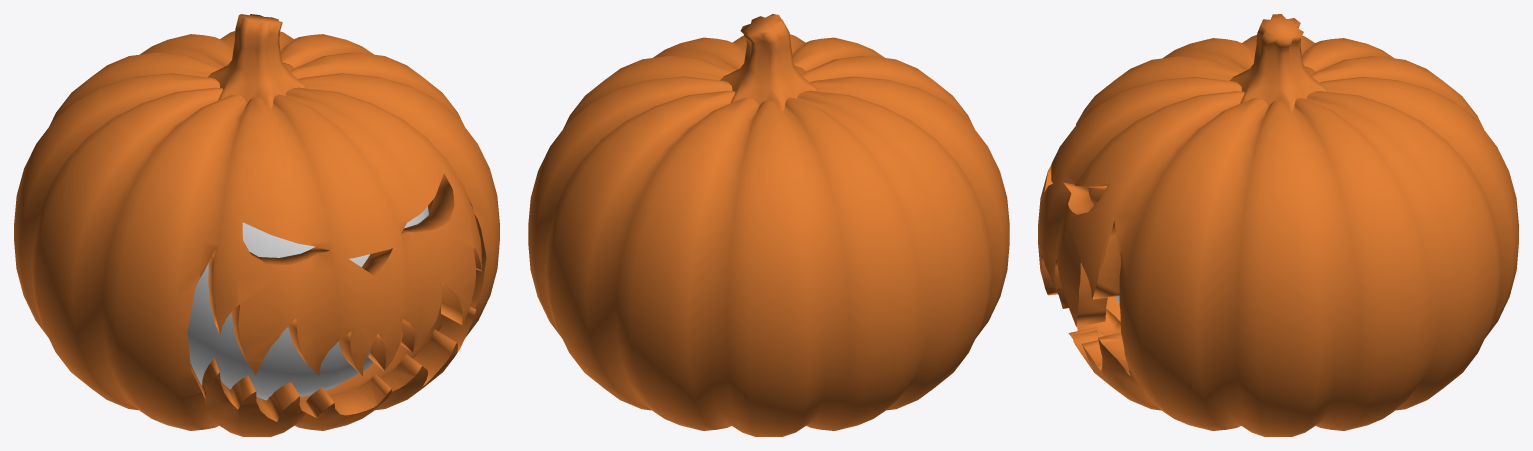
Rendered from pumpkin.fbx.
3 views of the same model, side by side, from view 1: azimuth 30°, elevation 25°; view 2: azimuth 150°, elevation 25°; view 3: azimuth 270°, elevation 25° (orthographic).
Parts seen in each view (by area): view 1: Halloween_Pumpkin, Sphere_1; view 2: Halloween_Pumpkin; view 3: Halloween_Pumpkin.
Part boxes in pixels (left/top/right/bottom): Halloween_Pumpkin: left=14, top=14, right=499, bottom=436; Sphere_1: left=187, top=206, right=428, bottom=399; Halloween_Pumpkin: left=528, top=14, right=1009, bottom=436; Halloween_Pumpkin: left=1038, top=14, right=1518, bottom=436.
Size of the model in its own units: 0.5874 by 0.4958 by 0.5874.
